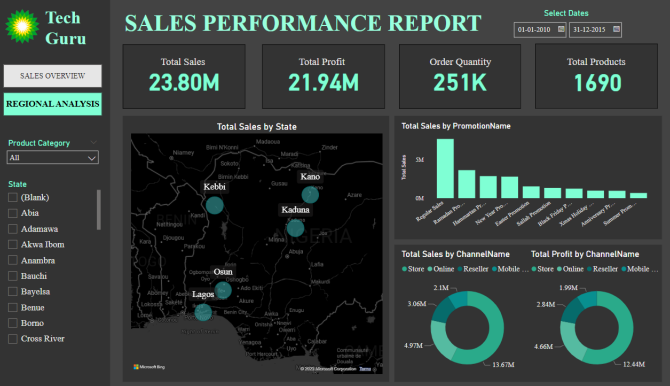

This screenshot's page, from the dashboard's own definition file:
{"tool":"powerbi","page":{"name":"REGIONAL ANALYSIS","canvas":[1440,840],"ordinal":1},"visuals":[{"type":"shape","box":[0,0,246.2,841.4],"z":0},{"type":"image","box":[18.3,12.7,85.8,115.4],"z":1000},{"type":"textbox","box":[271.6,32.4,782.3,76],"z":2000},{"type":"textbox","box":[104.1,25.3,126.6,115.4],"z":3000},{"type":"shape","box":[272.9,108.6,258.6,135.7],"z":4000},{"type":"card","fields":{"Values":["Measures_.Total Sales"]},"box":[302.9,148.6,200,67.1],"z":5000},{"type":"textbox","box":[347.1,128.6,111.4,38.6],"z":6000},{"type":"shape","box":[567.1,108.6,258.6,135.7],"z":7000},{"type":"card","fields":{"Values":["Measures_.Total Profit"]},"box":[597.1,148.6,200,67.1],"z":8000},{"type":"textbox","box":[638.6,128.6,117.1,38.6],"z":9000},{"type":"shape","box":[855.7,108.6,257.1,135.7],"z":10000},{"type":"card","fields":{"Values":["Sum(Sales_Data.Order Qty)"]},"box":[884.3,148.6,200,67.1],"z":11000},{"type":"textbox","box":[908.6,128.6,151.4,38.6],"z":12000},{"type":"shape","box":[1142.9,107.1,258.6,137.1],"z":13000},{"type":"card","fields":{"Values":["Count(Sales_Product.ProductName)"]},"box":[1172.9,150,200,65.7],"z":14000},{"type":"textbox","box":[1191.4,128.6,158.6,38.6],"z":15000},{"type":"shape","box":[273.3,258.3,561.7,560],"z":16000},{"type":"shape","box":[855.7,558.6,564.3,260],"z":18000},{"type":"shape","box":[855.7,258.6,564.3,288.6],"z":19000},{"type":"slicer","title":"Select Dates ","fields":{"Values":["Dates.Date"]},"box":[1085,31.7,246.7,66.7],"z":25000},{"type":"slicer","fields":{"Values":["Sales_Product_Sub_Cat.Product Category"]},"box":[18.3,301.7,213.3,86.7],"z":26000},{"type":"slicer","fields":{"Values":["Sales_State.State"]},"box":[18.3,388.3,213.3,356.7],"z":27000},{"type":"pageNavigator","box":[21.7,150,208.3,108.3],"z":27001},{"type":"map","fields":{"Category":["Sales_State.State"],"Size":["Measures_.Total Sales"]},"box":[285,270,540,536.7],"z":27002},{"type":"clusteredColumnChart","fields":{"Y":["Measures_.Total Sales"],"Category":["Sales_Promotion.PromotionName"]},"box":[865.7,575.7,547.1,234.3],"z":27003},{"type":"donutChart","fields":{"Category":["Sales_Channel5.ChannelName"],"Y":["Measures_.Total Sales"]},"box":[865.7,262.9,288.6,280],"z":27004},{"type":"donutChart","fields":{"Category":["Sales_Channel5.ChannelName"],"Y":["Measures_.Total Profit"]},"box":[1140,262.9,288.6,280],"z":27005}]}

Visuals, with their boxes in screenshot pixels (x1, y1, x2, y2), scaled from the page's 1440x840 canvas onto the 670x386 screenshot:
shape: detection(0, 0, 115, 385)
image: detection(9, 6, 48, 59)
textbox: detection(126, 15, 490, 50)
textbox: detection(48, 12, 107, 65)
shape: detection(127, 50, 247, 112)
card - Measures_.Total Sales: detection(141, 68, 234, 99)
textbox: detection(161, 59, 213, 77)
shape: detection(264, 50, 384, 112)
card - Measures_.Total Profit: detection(278, 68, 371, 99)
textbox: detection(297, 59, 352, 77)
shape: detection(398, 50, 518, 112)
card - Sum(Sales_Data.Order Qty): detection(411, 68, 505, 99)
textbox: detection(423, 59, 493, 77)
shape: detection(532, 49, 652, 112)
card - Count(Sales_Product.ProductName): detection(546, 69, 639, 99)
textbox: detection(554, 59, 628, 77)
shape: detection(127, 119, 389, 376)
shape: detection(398, 257, 661, 376)
shape: detection(398, 119, 661, 251)
"Select Dates " slicer: detection(505, 15, 620, 45)
slicer - Sales_Product_Sub_Cat.Product Category: detection(9, 139, 108, 178)
slicer - Sales_State.State: detection(9, 178, 108, 342)
pageNavigator: detection(10, 69, 107, 119)
map - Sales_State.State x Measures_.Total Sales: detection(133, 124, 384, 371)
clusteredColumnChart - Measures_.Total Sales x Sales_Promotion.PromotionName: detection(403, 265, 657, 372)
donutChart - Sales_Channel5.ChannelName x Measures_.Total Sales: detection(403, 121, 537, 249)
donutChart - Sales_Channel5.ChannelName x Measures_.Total Profit: detection(530, 121, 665, 249)
